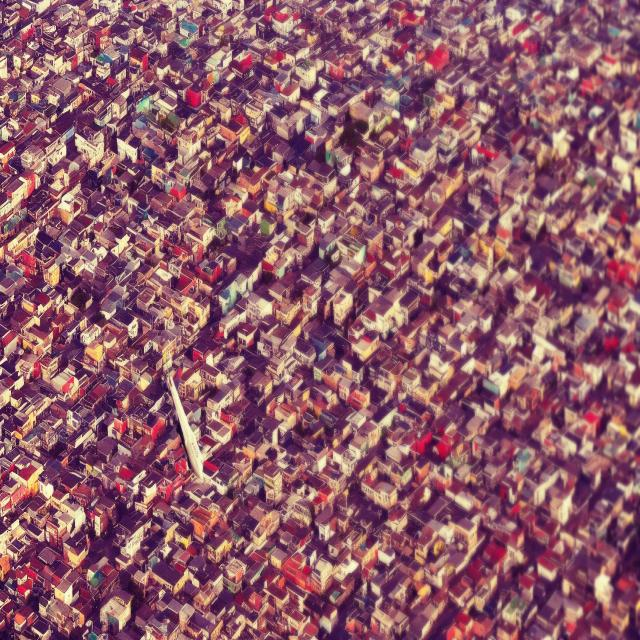airplane: (163, 362, 237, 495)
